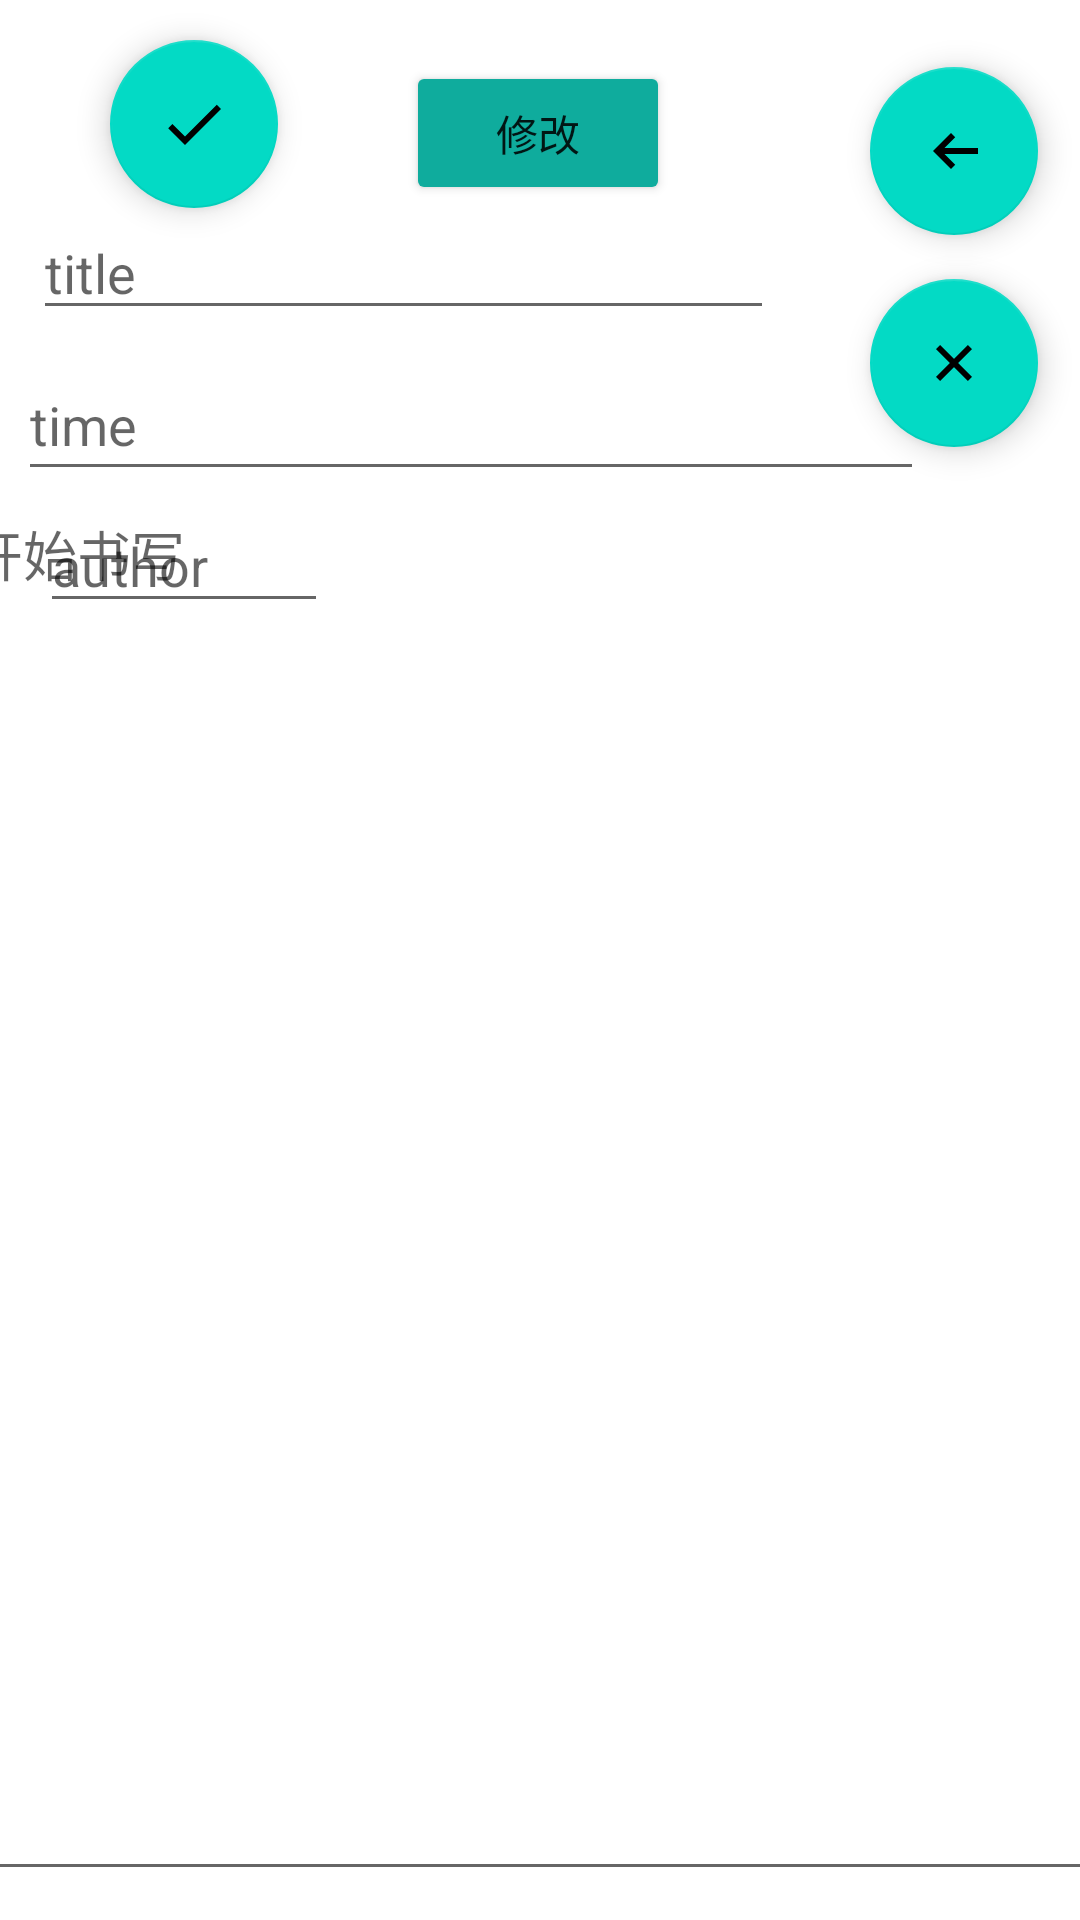

Screen size 1080 x 1920. Icon name, then its center in pixels as (x=x, y=y):
custom back: (x=954, y=151)
custom check: (x=194, y=124)
